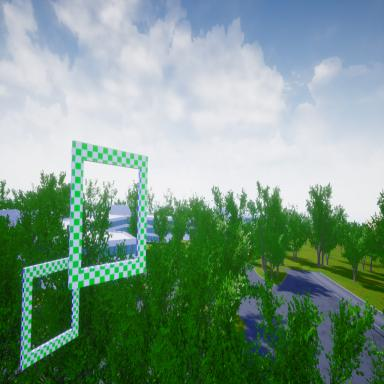gate: (67, 140, 149, 290), (20, 254, 79, 372)
